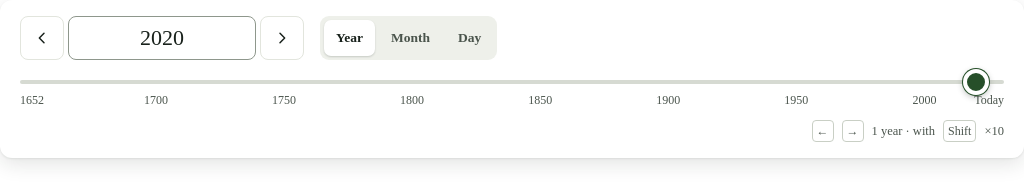
Test: clears the error on Esc and the slider
The image size is (1024, 184).
Replace the text in the field named "Date shown" with "abc" at (162, 38), box [81,16,243,60]
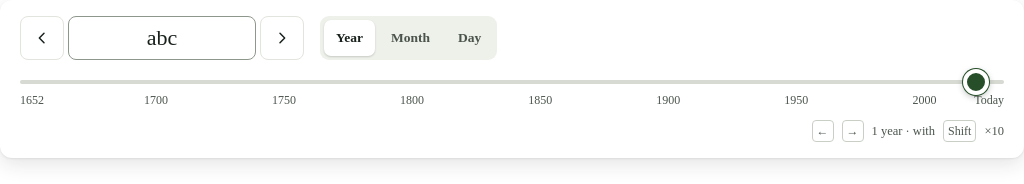
Press Enter in the field named "Date shown", box [81,16,243,60]
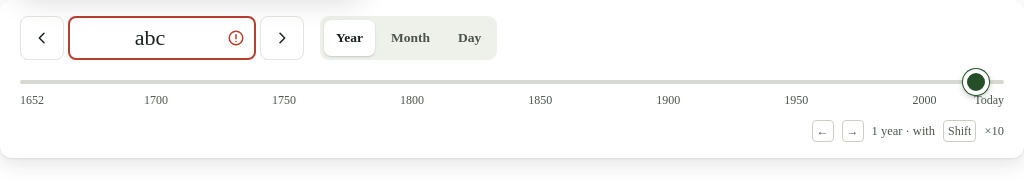
Press Escape in the field named "Date shown", box [81,17,243,59]
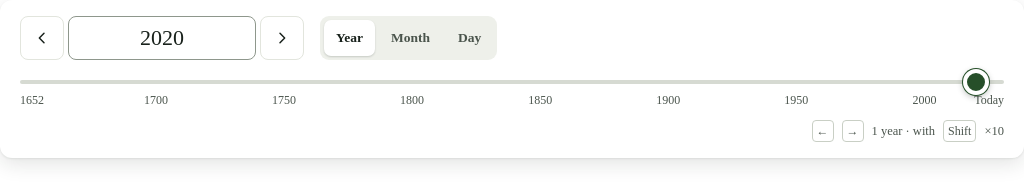
Check: the text "The map still shows" is gone
Check: the field named "Date shown" holds "2020"
Replace the text in the field named "Date shown" with "abc" at (162, 38), box [81,16,243,60]
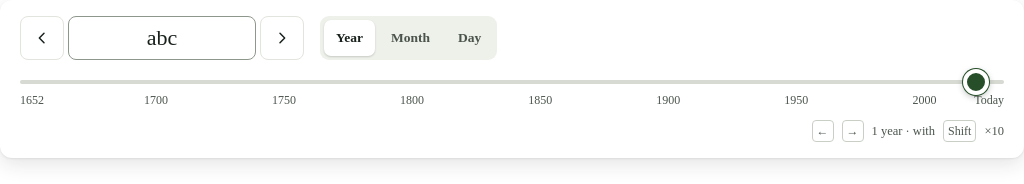
Press Enter in the field named "Date shown", box [81,16,243,60]
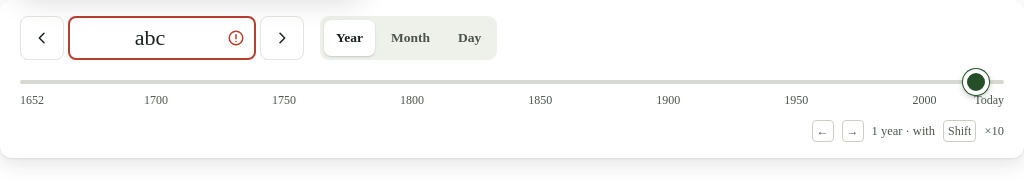
Set the slider named "Map date" to "10" at (54, 82), box [20,68,1004,96]
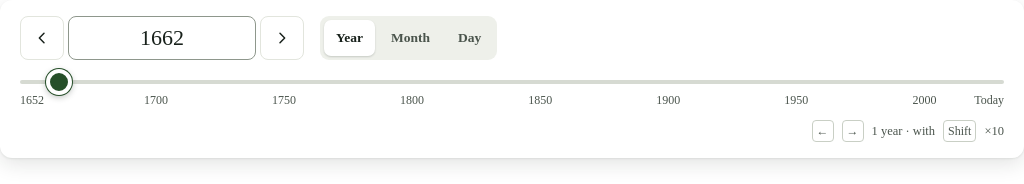
Check: the text "The map still shows" is gone
